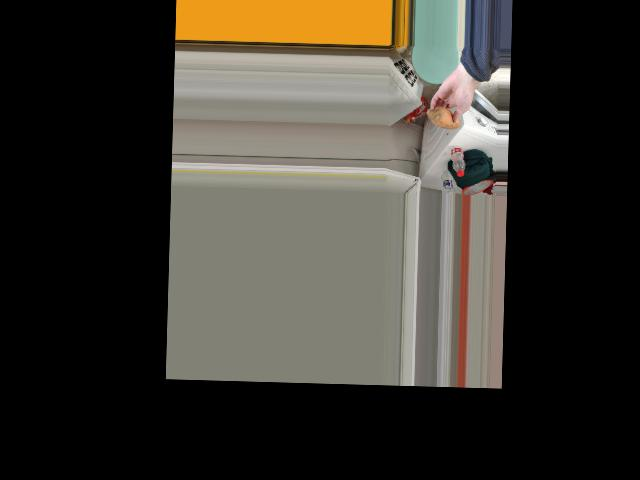sweet_potato: (430, 103, 459, 129)
